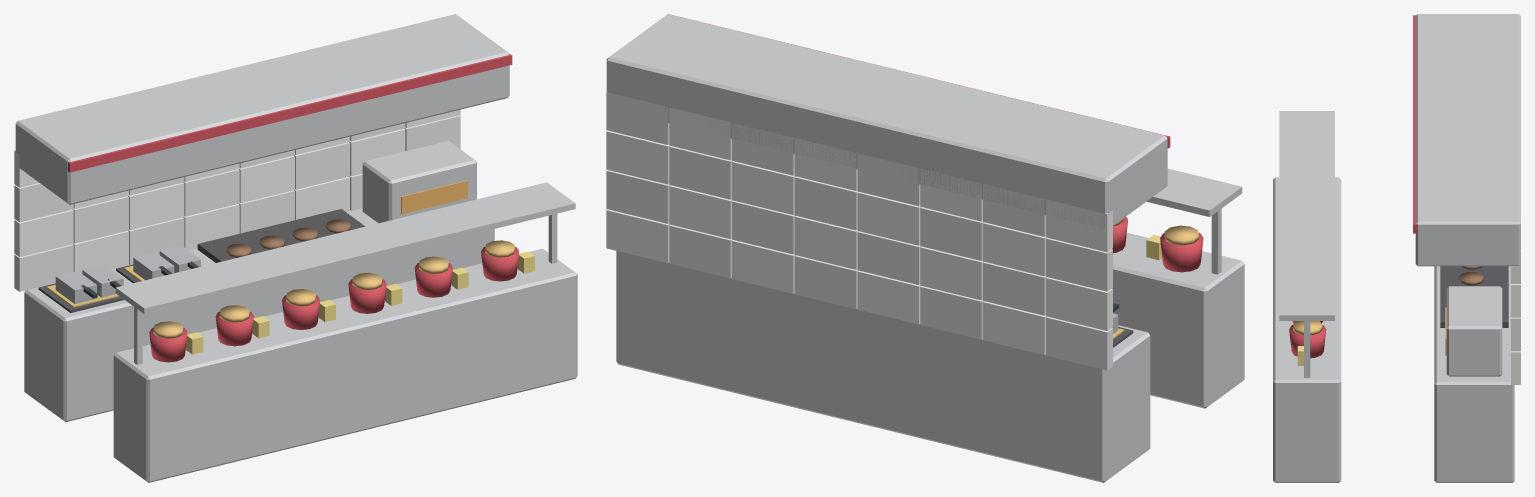
File: kitchen-chicken.glb
3 renders of one model, left to right at view 1: azimuth 30°, elevation 25°; view 2: azimuth 150°, elevation 25°; view 3: azimuth 270°, elevation 25°, orthographic. The views are drawn at different scales.
Parts seen in each view (by area): view 1: kitchen-chicken; view 2: kitchen-chicken; view 3: kitchen-chicken.
Boxes of the visible parts, bbox=[...] form: kitchen-chicken: bbox=[14, 14, 577, 482]; kitchen-chicken: bbox=[606, 14, 1244, 482]; kitchen-chicken: bbox=[1273, 14, 1520, 482].
Bounding box in the file's own units: 4 × 2.35 × 2.
